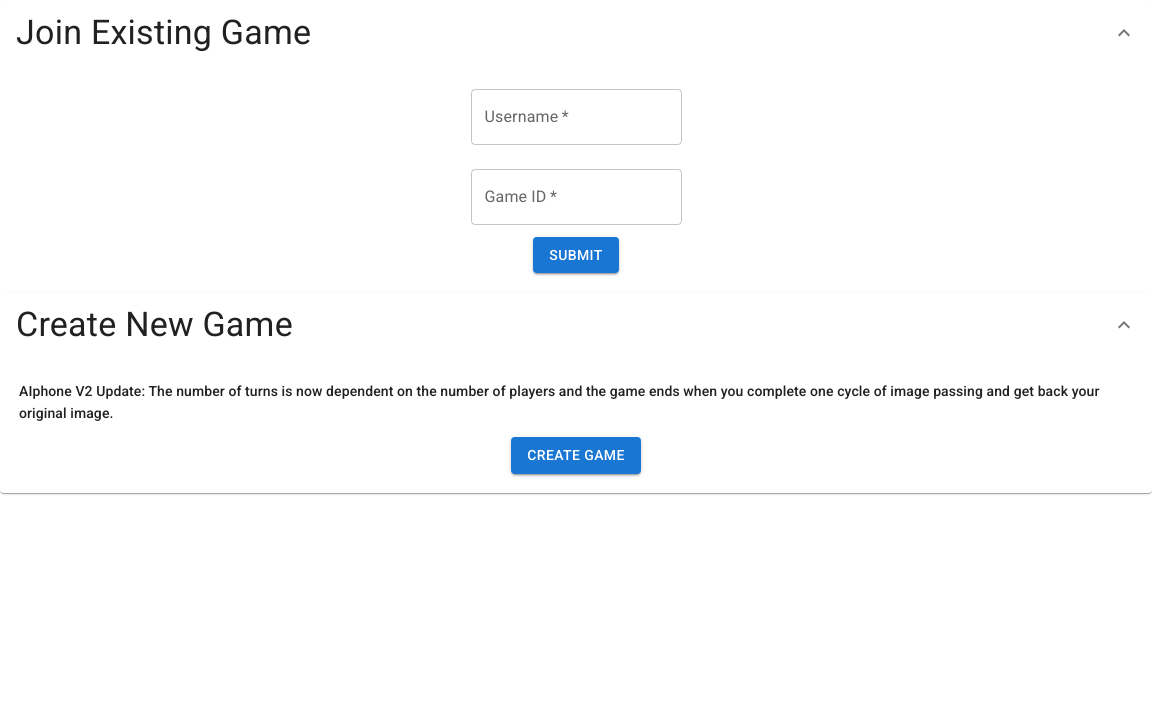
Test: Home interaction tests (integrating join and create game) › should fill in game id input when you create new game
Click the button "Create Game" at [576, 456], box [511,437,641,474]
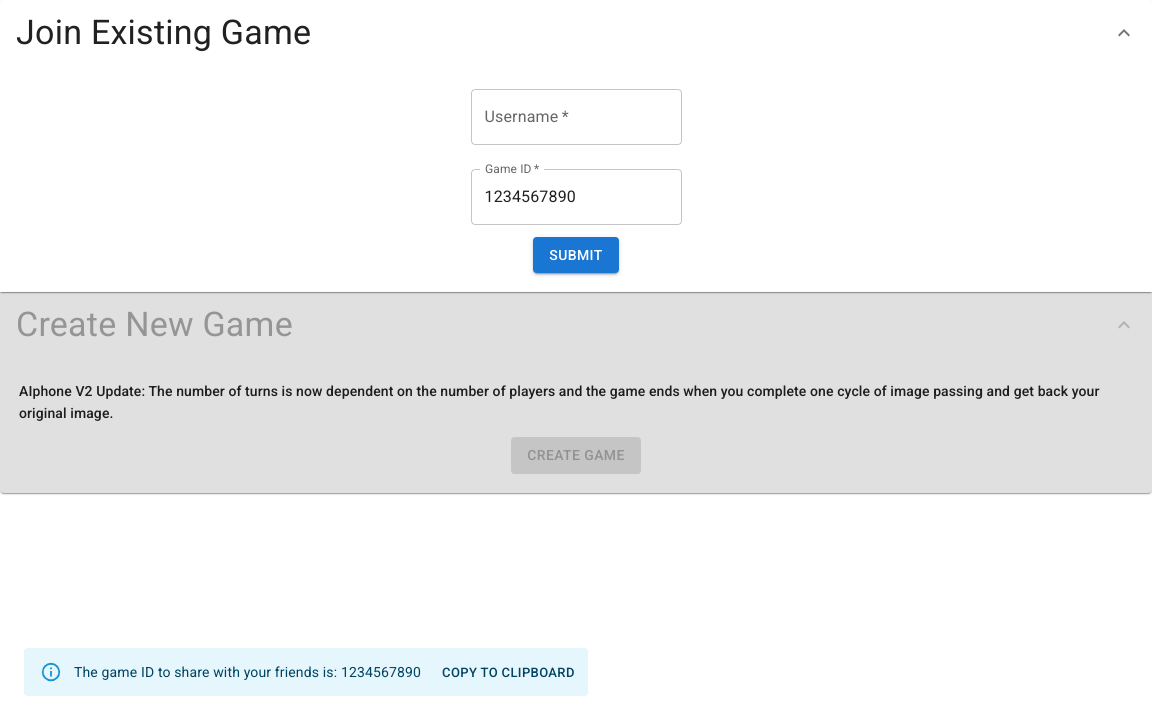
Expected: the field with placeholder "Enter game id" holds "1234567890", [470,169,682,225]
